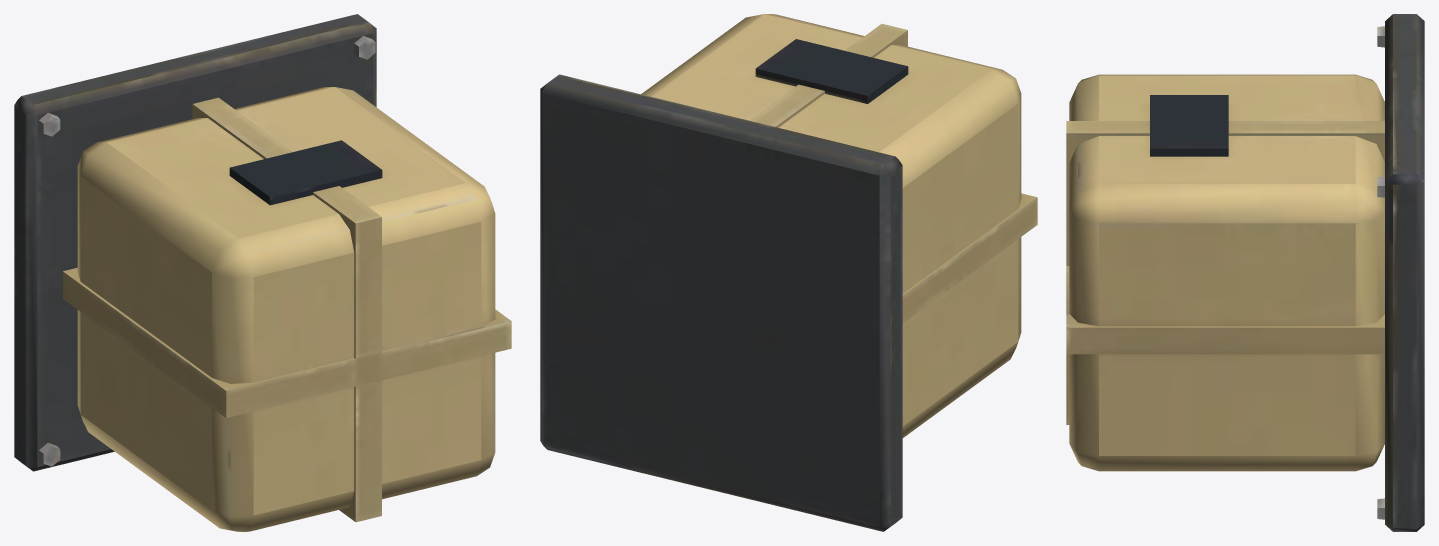
File: foilBox.glb
The picture shows the model from 3 angles, left to right: view 1: azimuth 30°, elevation 25°; view 2: azimuth 150°, elevation 25°; view 3: azimuth 270°, elevation 25°; orthographic projection. The views are drawn at different scales.
Parts seen in each view (by area): view 1: foilBox; view 2: foilBox; view 3: foilBox.
Part boxes in pixels (left/top/right/bottom): foilBox: left=14, top=14, right=511, bottom=531; foilBox: left=540, top=14, right=1037, bottom=531; foilBox: left=1066, top=14, right=1424, bottom=531.
Size of the model in its own units: 0.4 by 0.4 by 0.363.
1 material, 1 textured.
